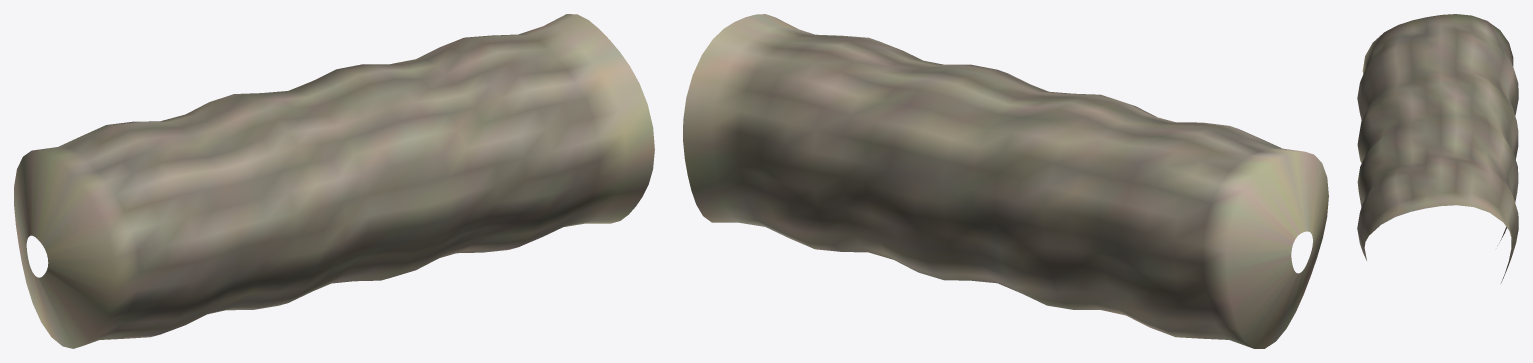
The model's file is turtle-prop-driftwood.glb.
3 views of the same model, side by side, from view 1: azimuth 30°, elevation 25°; view 2: azimuth 150°, elevation 25°; view 3: azimuth 270°, elevation 25° (orthographic). The views are drawn at different scales.
Parts seen in each view (by area): view 1: turtle-prop-driftwood; view 2: turtle-prop-driftwood; view 3: turtle-prop-driftwood.
Part boxes in pixels (x1=…): turtle-prop-driftwood: x1=14, y1=14, x2=654, y2=348; turtle-prop-driftwood: x1=683, y1=14, x2=1328, y2=348; turtle-prop-driftwood: x1=1357, y1=14, x2=1518, y2=282.
Bounding box in the file's own units: 0.14 × 0.0465 × 0.0467.
